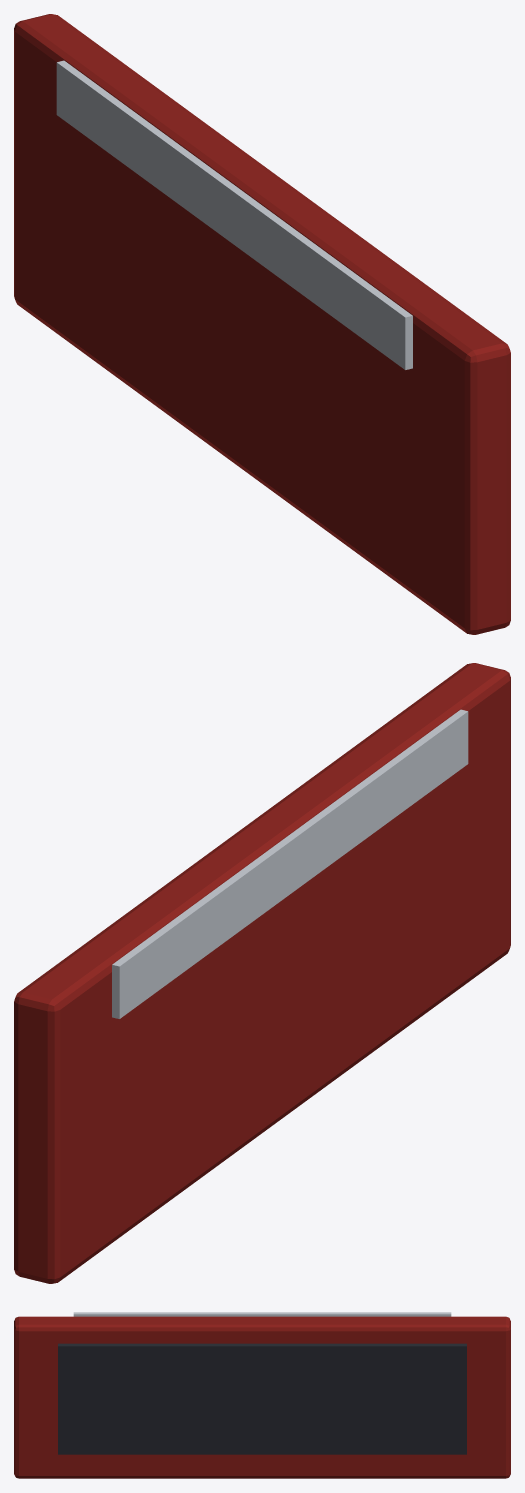
Rendered from tailgate.obj.
3 views of the same model, one above another, from view 1: azimuth 30°, elevation 25°; view 2: azimuth 150°, elevation 25°; view 3: azimuth 270°, elevation 25° (orthographic). The views are drawn at different scales.
Visible parts, largest first — view 1: Cube; view 2: Cube; view 3: Cube.
Part boxes in pixels (x1,y1,x2,y2): Cube: (14,14,510,634); Cube: (14,663,510,1283); Cube: (14,1312,510,1478).
Size of the model in its own units: 0.1275 by 0.54 by 1.58.
